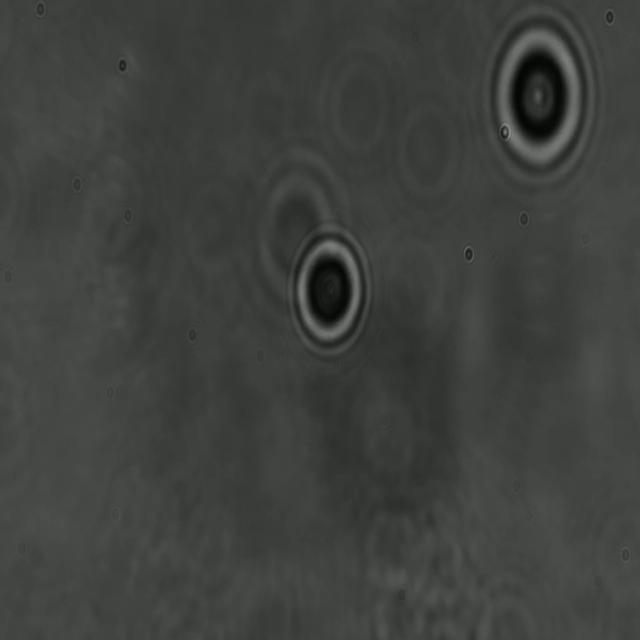DCELL: (283, 217, 376, 362)
LCELL: (477, 6, 600, 190)
